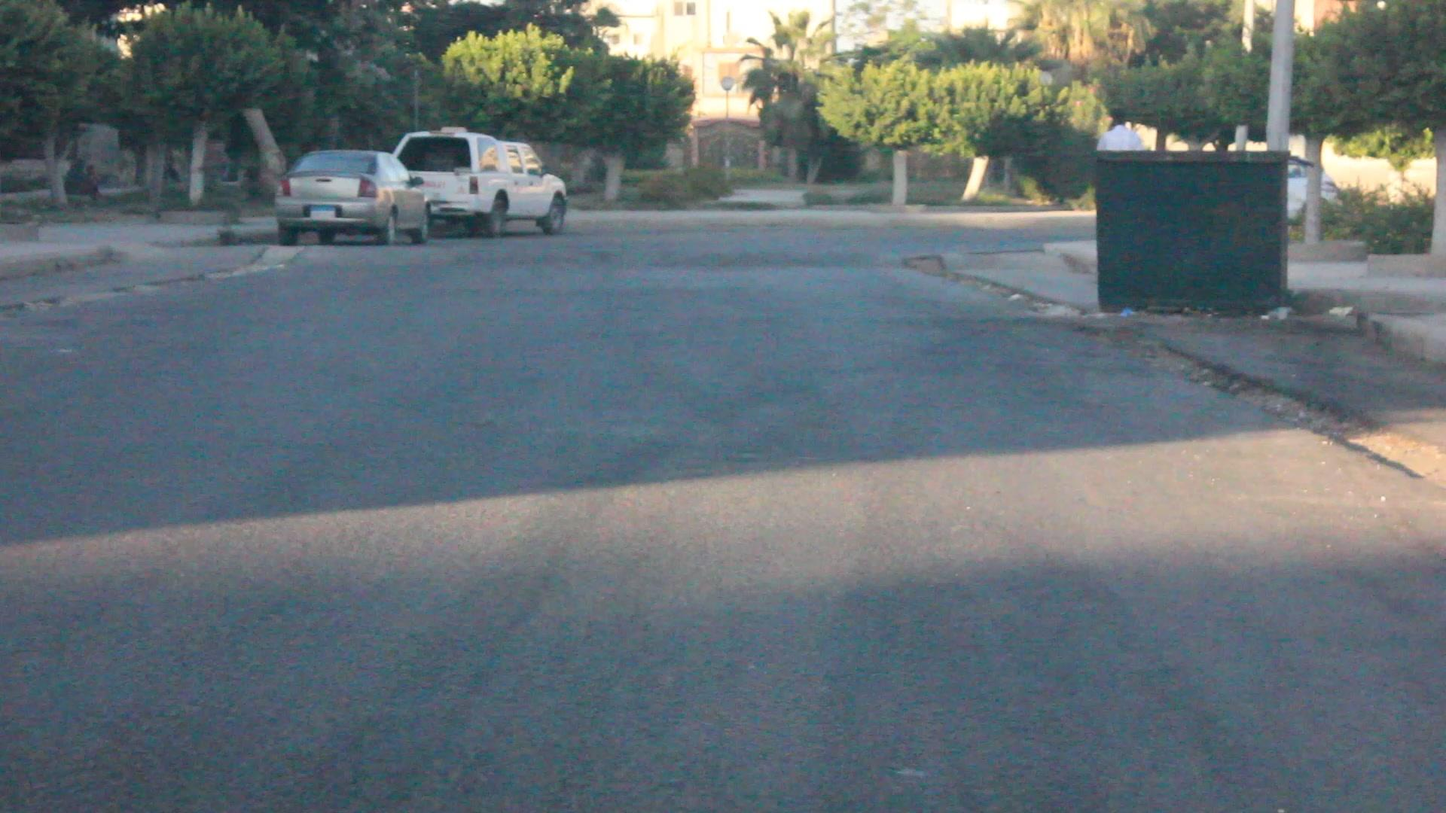Bump: (262, 233, 930, 282)
